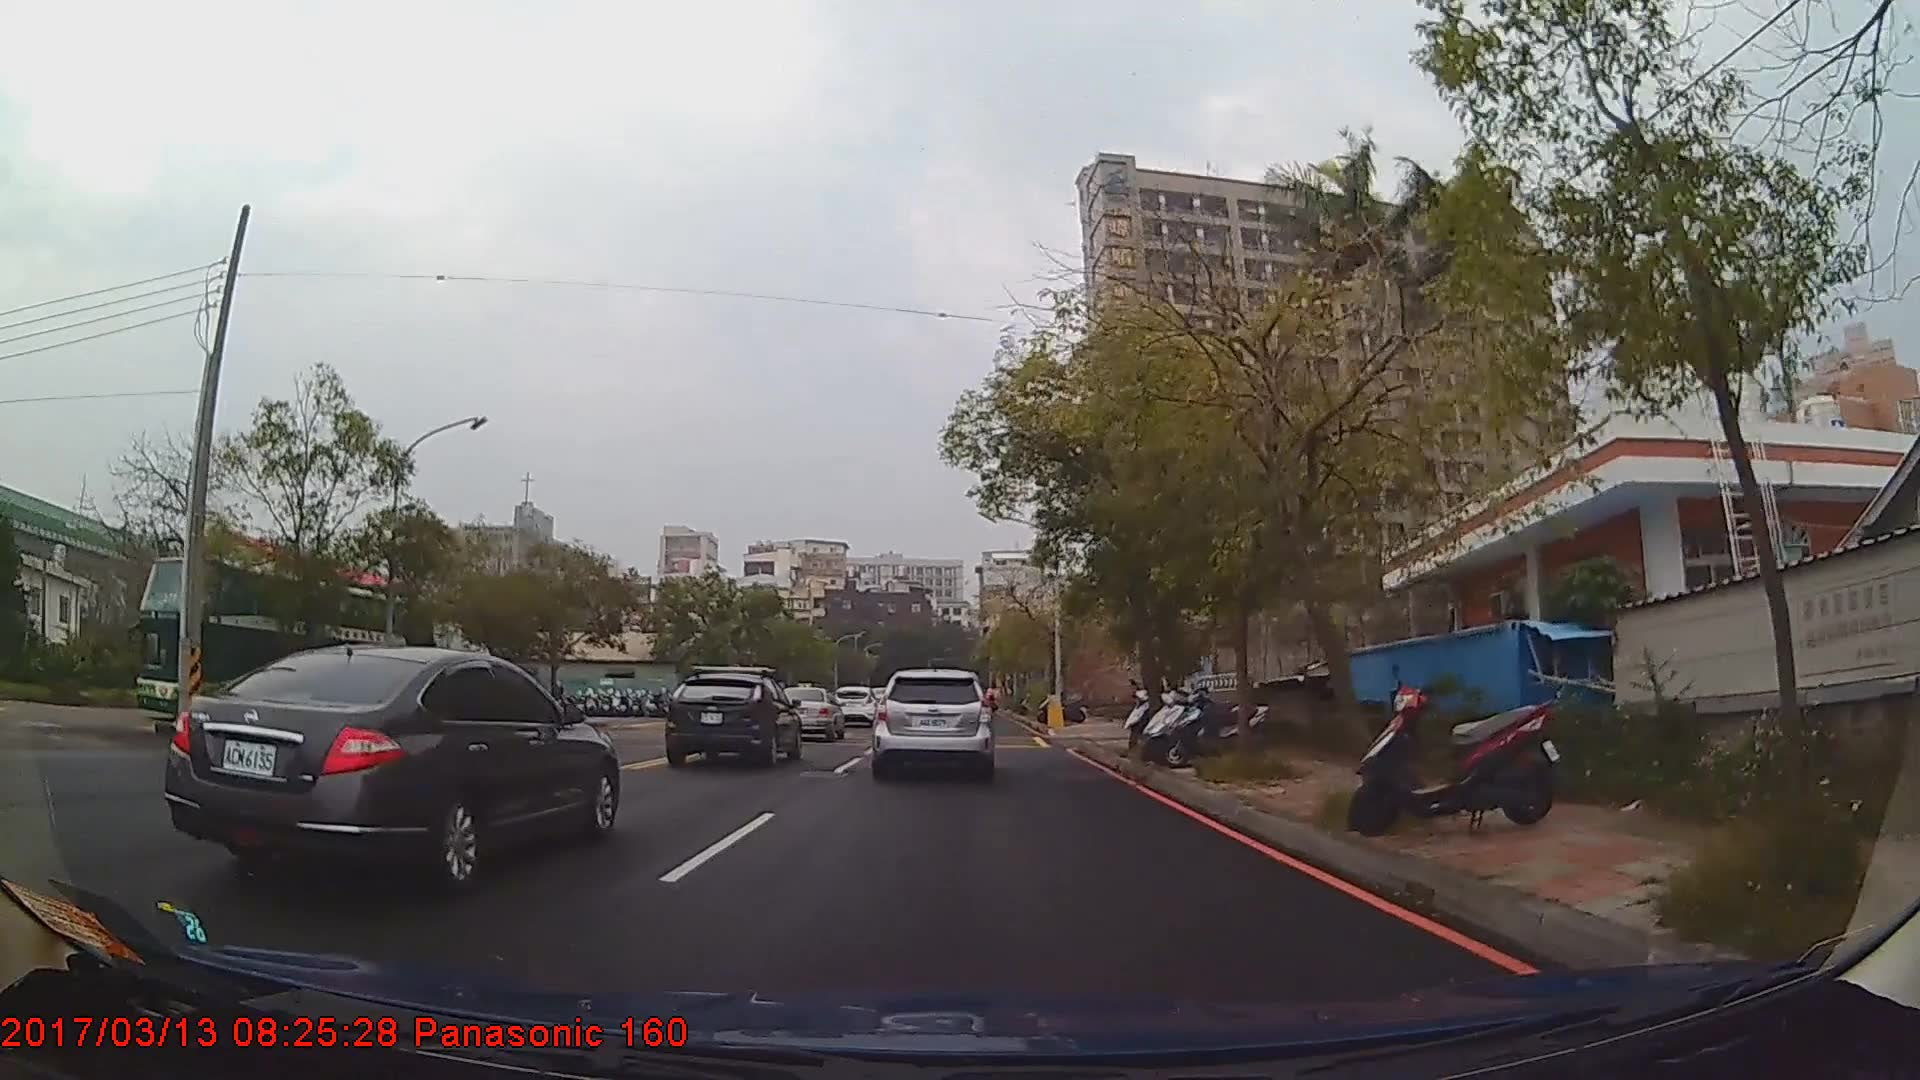vehicle: (164, 644, 621, 887), (128, 550, 439, 744), (662, 671, 803, 773), (873, 666, 990, 777), (775, 684, 843, 742), (831, 683, 878, 727)
